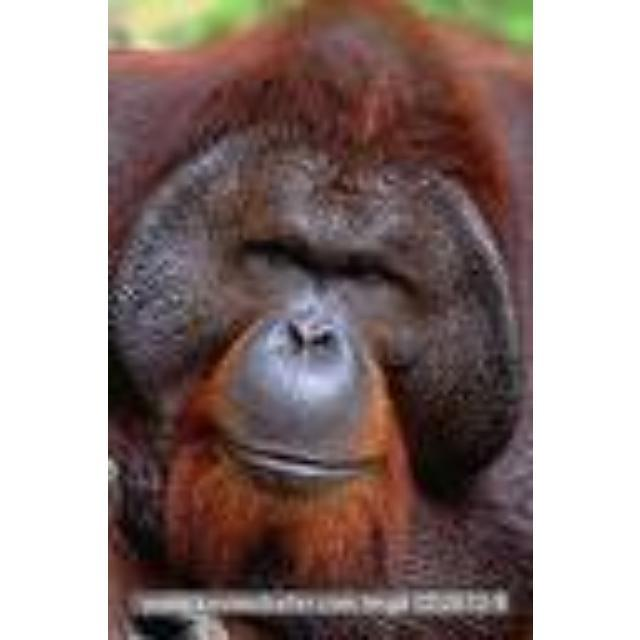Orangutan: (114, 29, 530, 640)
